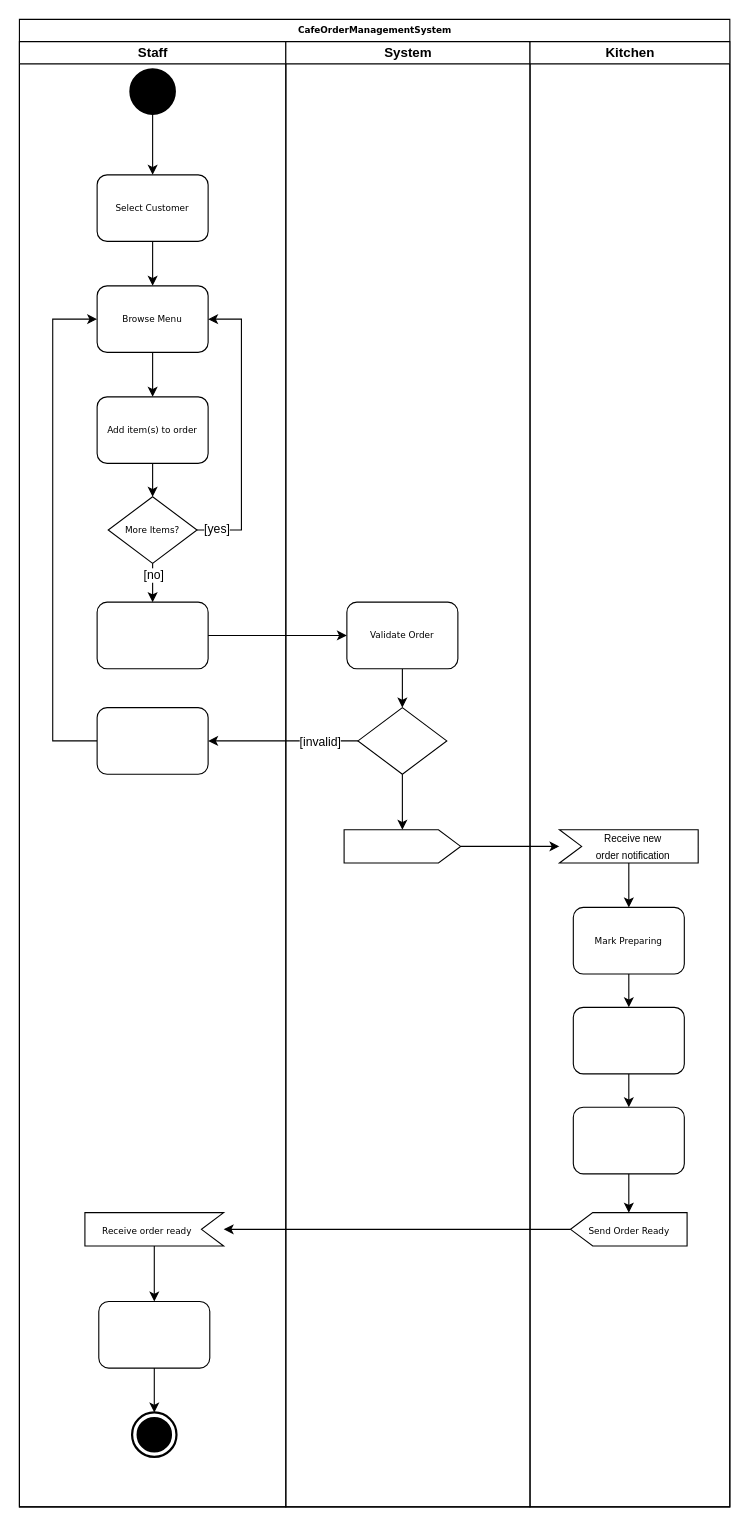
This 749x1526 diagram has some shape labels left out. The centre of each missing label's shape, as x and y in pixels:
"Display Error" belongs at [152,740].
"Mark Completed" belongs at [154,1334].
"Mark Ready" belongs at [628,1140].
"Prepare Order" belongs at [628,1040].
"Send new order notification" belongs at [402,846].
"Submit Order" belongs at [152,635].
"Valid Order?" belongs at [402,740].
